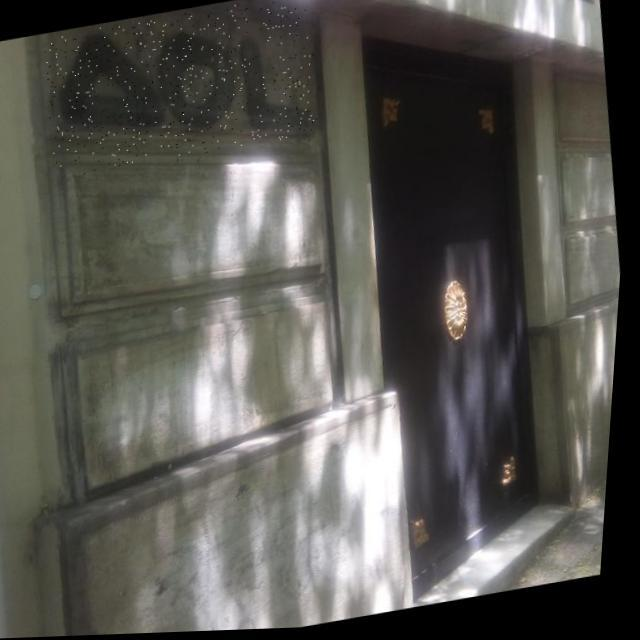-: (37, 0, 328, 180)
